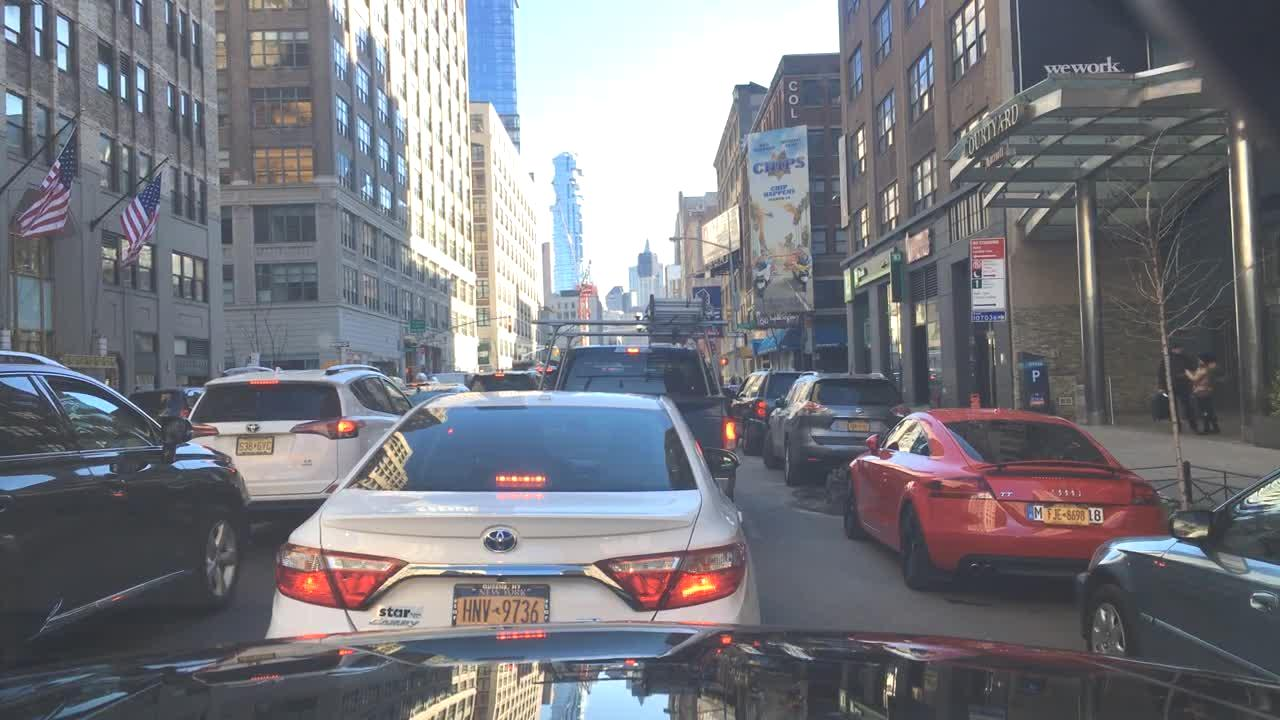Audi: (1043, 484, 1089, 503)
Toyota: (478, 519, 519, 556), (242, 420, 266, 436)
